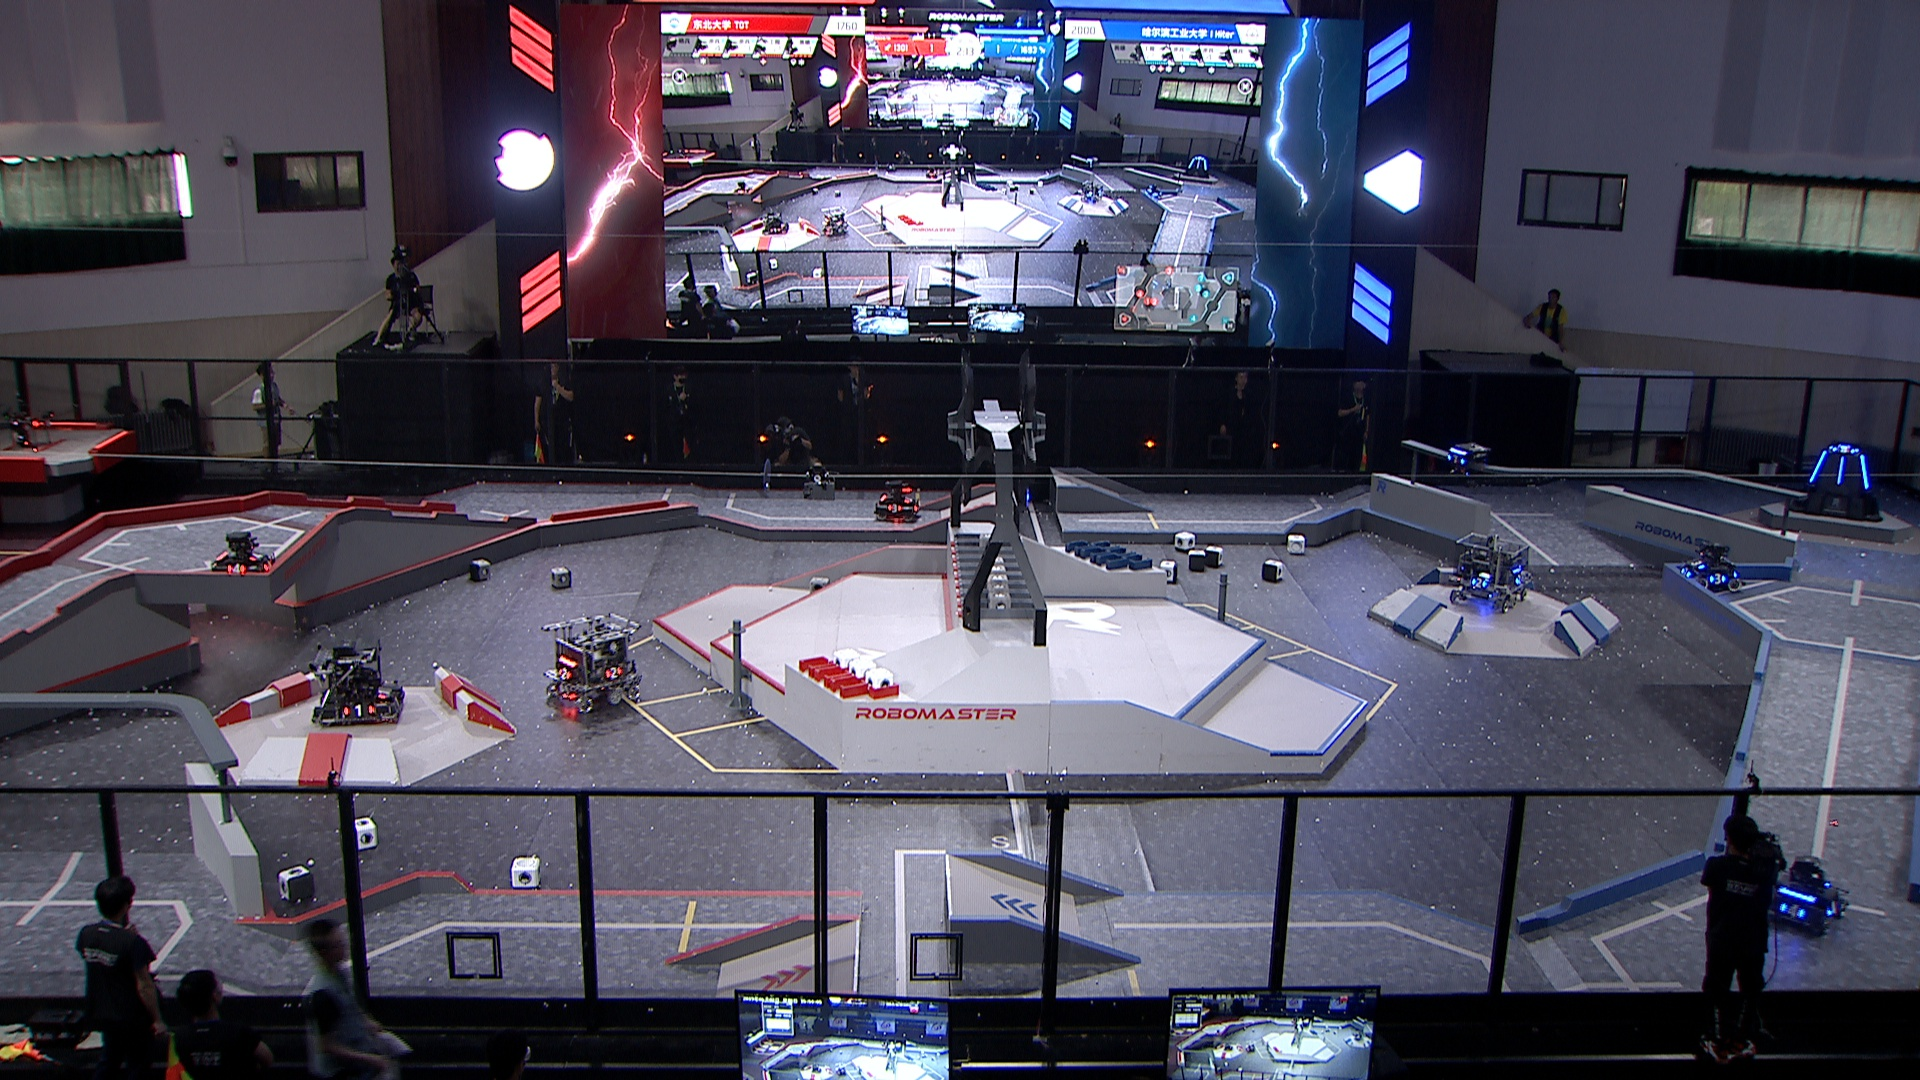armor: (1807, 450, 1832, 485), (1855, 451, 1871, 489), (338, 703, 376, 717), (1780, 899, 1804, 922), (1833, 454, 1849, 485), (1832, 443, 1858, 458), (556, 665, 575, 684), (1510, 570, 1528, 589), (223, 560, 248, 575), (884, 498, 905, 516), (1825, 894, 1840, 918), (390, 690, 406, 711), (603, 665, 624, 680), (1444, 452, 1466, 467), (1470, 575, 1493, 589), (1705, 571, 1727, 585), (375, 683, 392, 702), (1687, 556, 1709, 570), (258, 555, 277, 571), (247, 549, 268, 562), (1679, 562, 1695, 579), (901, 491, 916, 506)
base: (1787, 438, 1884, 526)
car: (541, 611, 646, 717), (309, 641, 409, 728), (1447, 531, 1532, 616), (1764, 853, 1851, 935), (211, 527, 278, 582), (1675, 541, 1743, 593), (872, 477, 923, 526)
ignore: (818, 202, 851, 237), (1182, 150, 1212, 182), (1076, 174, 1105, 204), (761, 208, 789, 235), (732, 178, 756, 196), (1145, 181, 1164, 202)
watcher: (1439, 438, 1494, 493)
